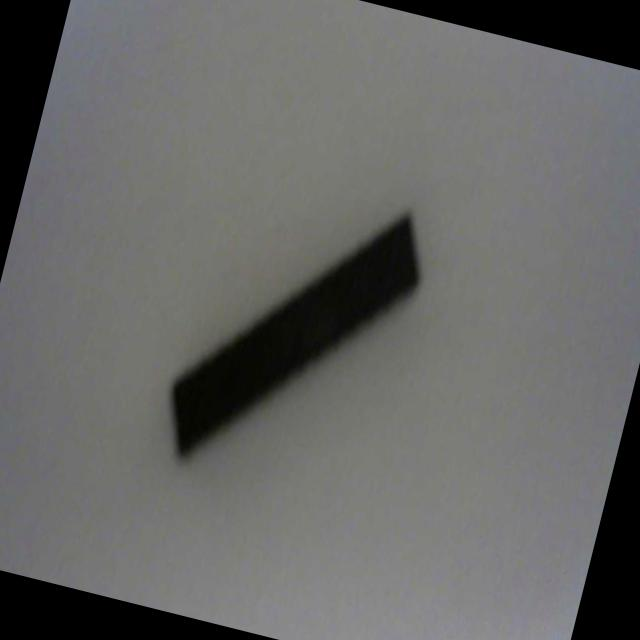atmega: (152, 160, 439, 508)
